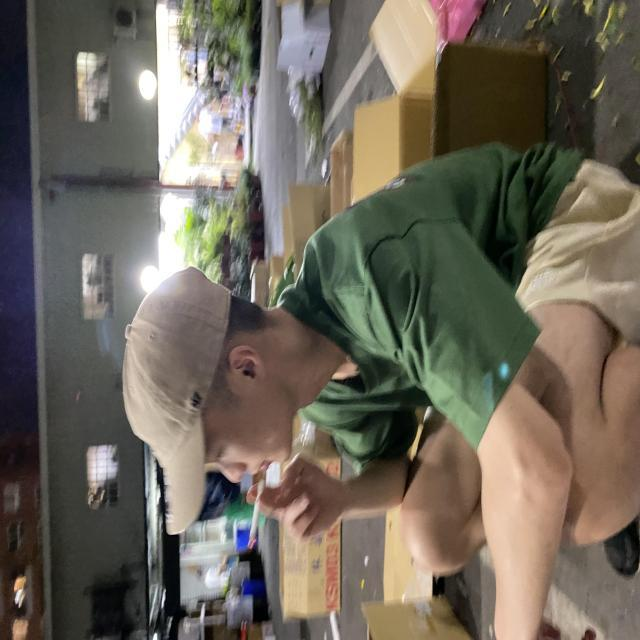cigarette: (240, 467, 278, 562)
